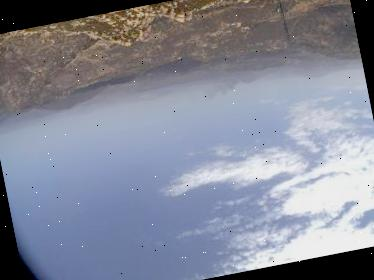smoke: (196, 60, 268, 106)
